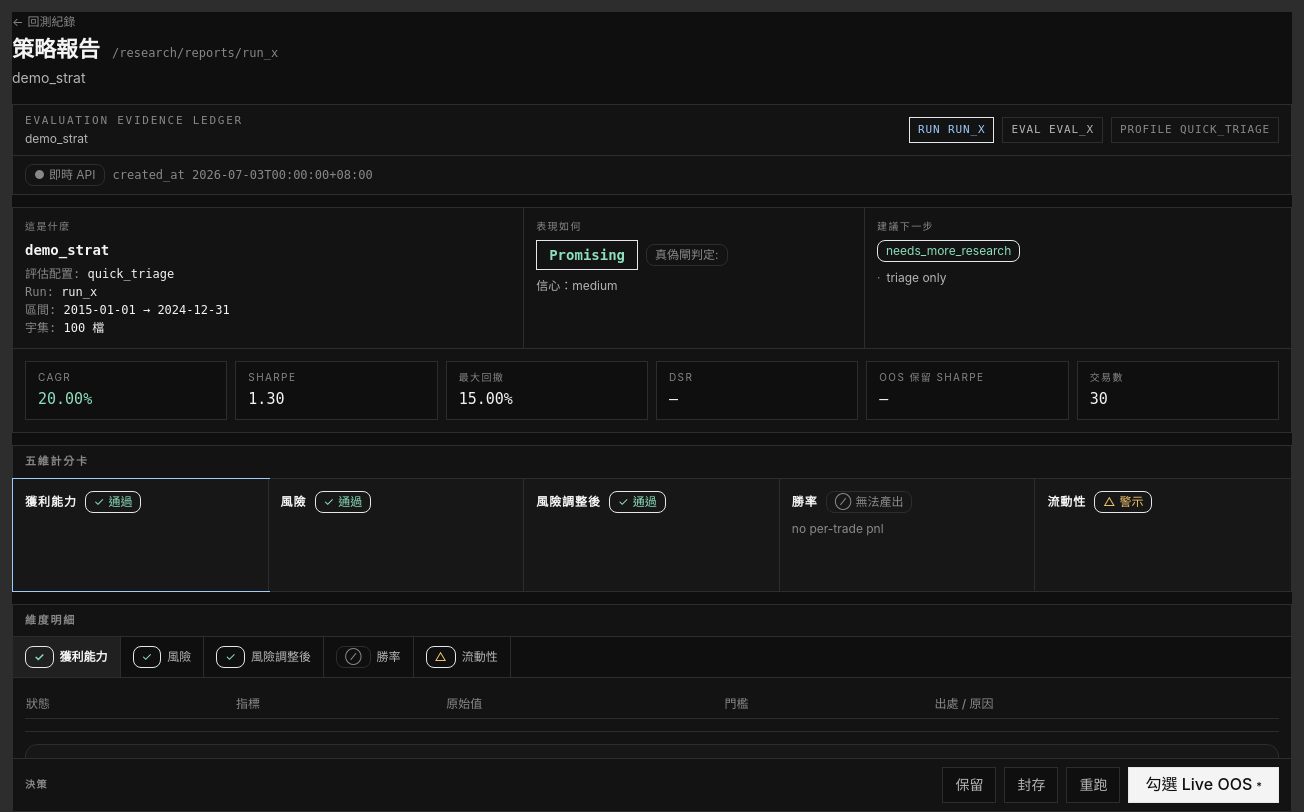
Test: ReportViewerPage · api mode › a rejected decision surfaces the backend error in the bar (not silent)
This screenshot has width=1304, height=812.
Click the button with test id "decision-keep".
click(970, 785)  # box [942,767,996,803]
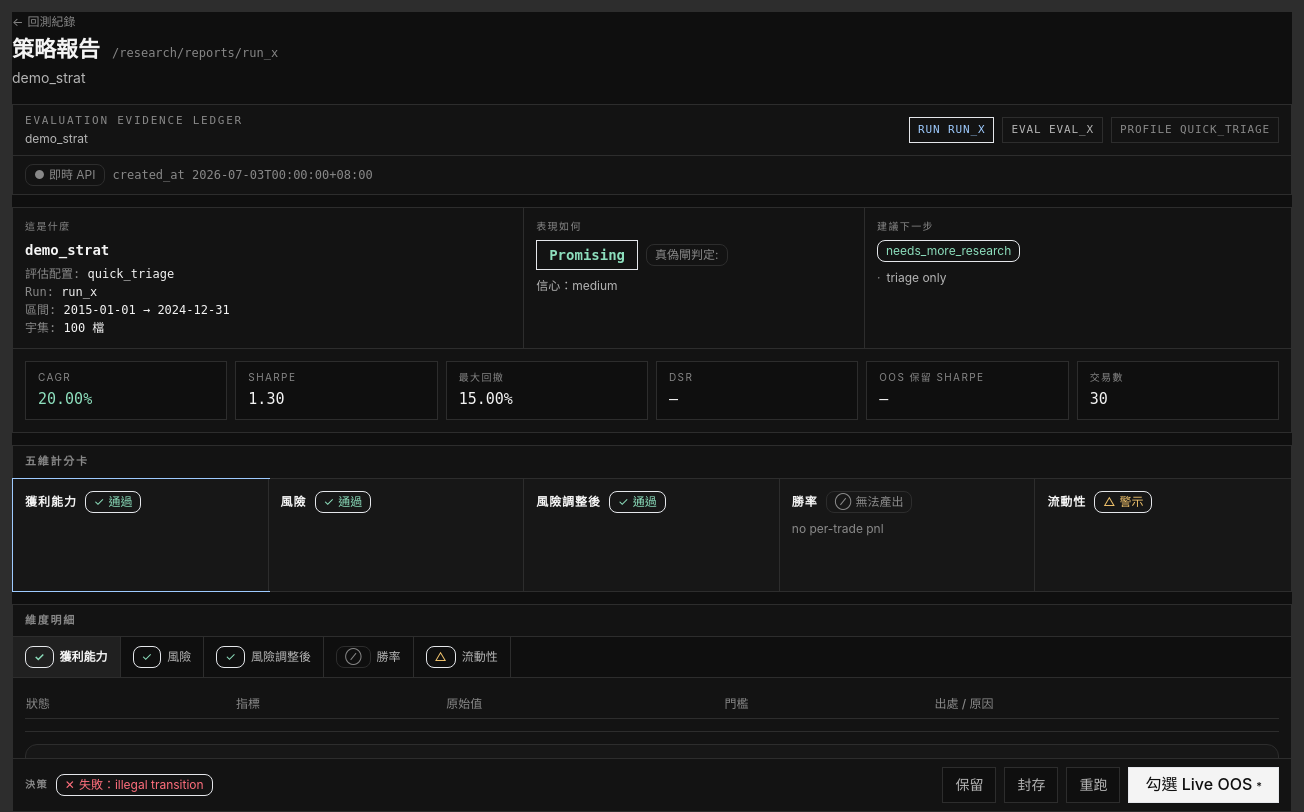
Check: the text "✕ 失敗：illegal transition" is shown, box [56,774,213,796]
